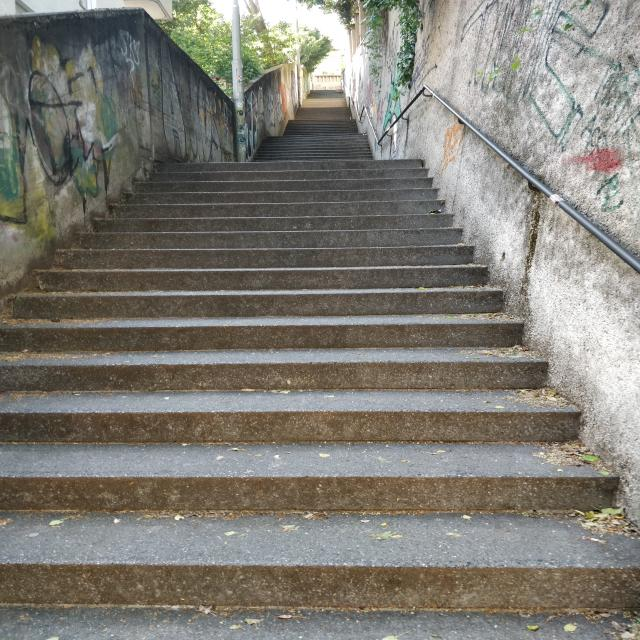Concrete: (0, 93, 640, 640), (324, 0, 640, 538), (0, 8, 287, 279)
